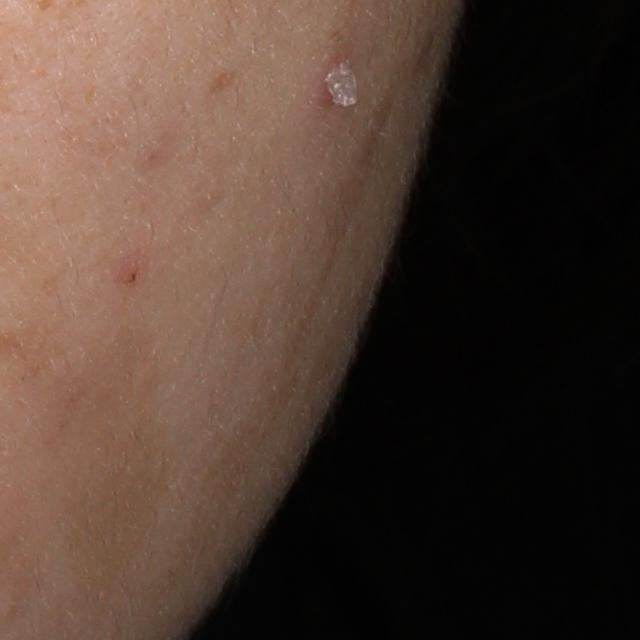other: (324, 56, 362, 116)
papule: (115, 254, 147, 291)
